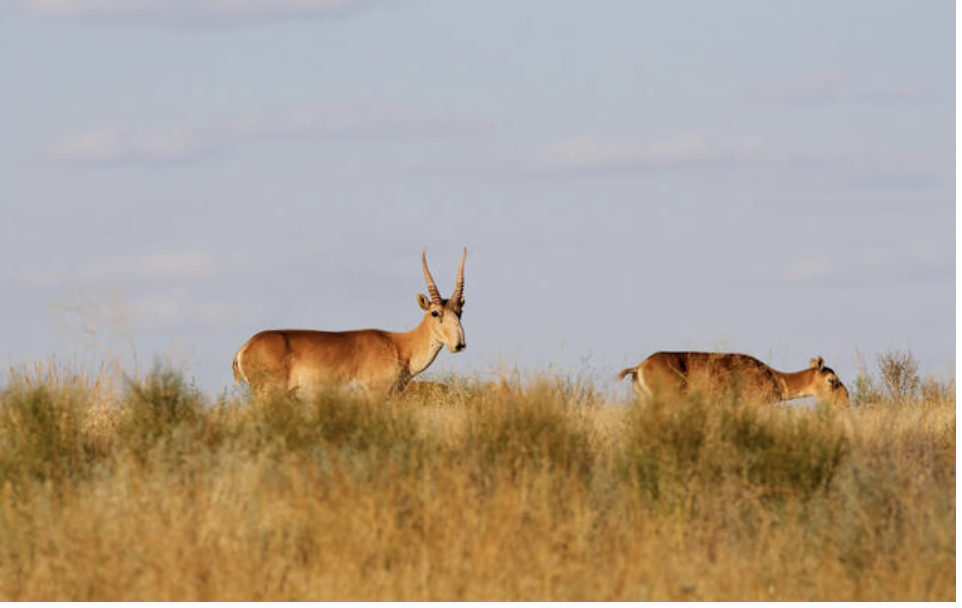saiga: (213, 250, 486, 395), (618, 344, 856, 429)
